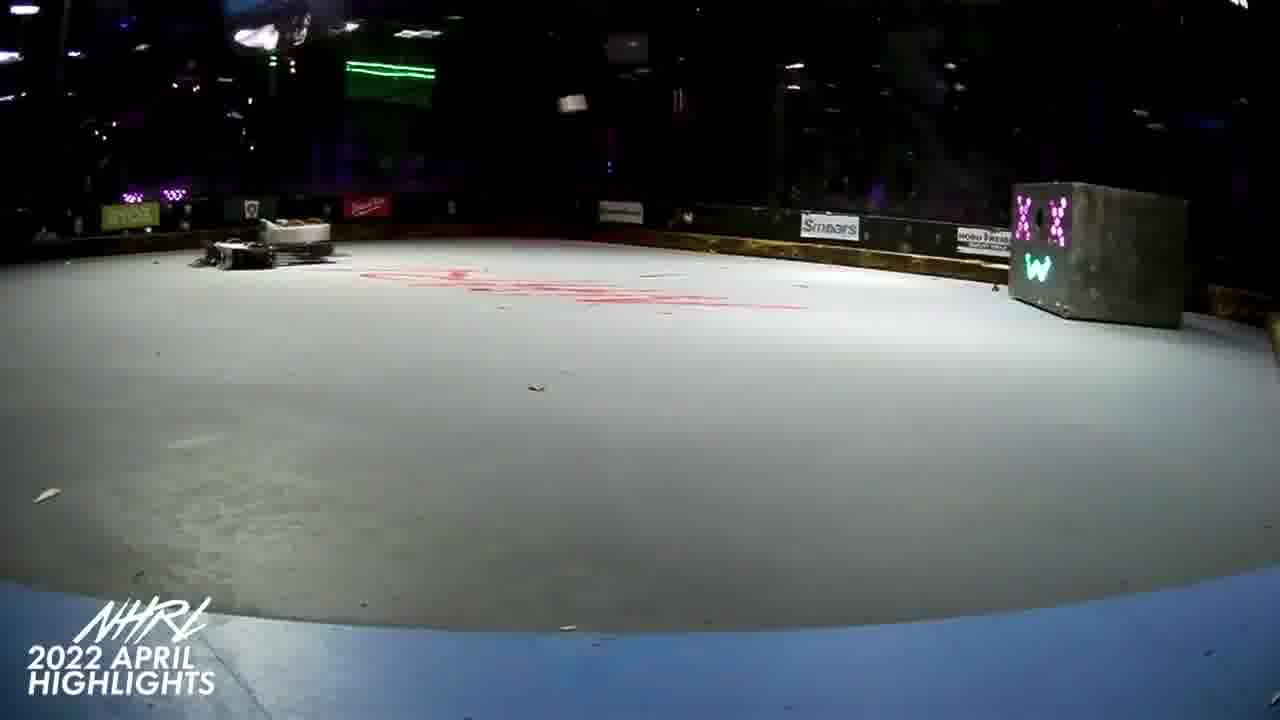combatbot: (198, 216, 338, 267)
housebot: (1007, 181, 1191, 331)
